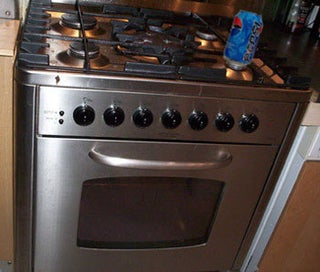can: (223, 8, 264, 72)
